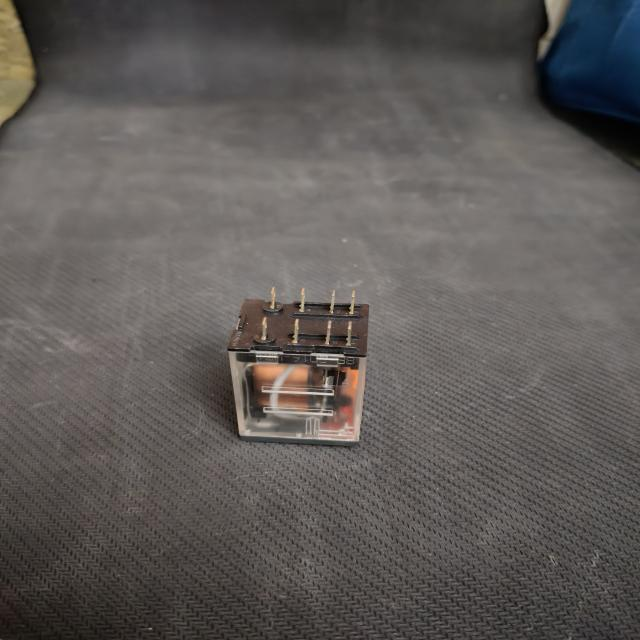relay: (215, 278, 382, 454)
